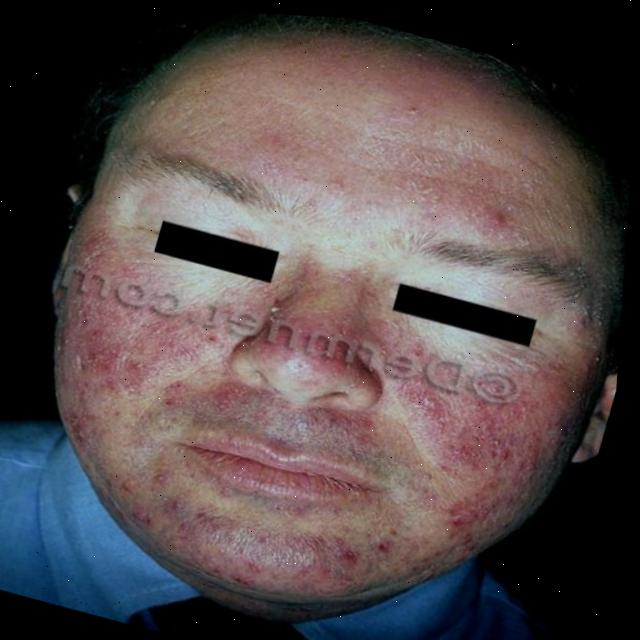Rosacea: (350, 304, 609, 554), (89, 450, 424, 627), (40, 227, 270, 454), (233, 112, 533, 252), (245, 284, 376, 397), (208, 377, 379, 456)
